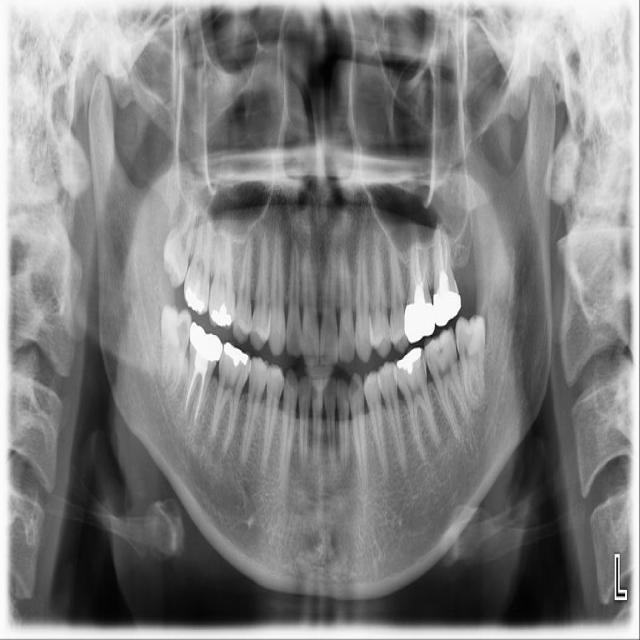3M ESPE Implant: (154, 188, 208, 291)
52: (385, 342, 440, 398), (177, 320, 228, 378), (211, 342, 256, 397), (400, 292, 438, 344), (433, 273, 461, 328), (209, 277, 237, 331), (182, 258, 209, 314)
73: (178, 356, 215, 436), (407, 226, 433, 299), (430, 218, 455, 288), (572, 543, 580, 559)
BioHorizons Implant: (431, 218, 464, 328)
Biomet 3i Implant: (453, 313, 492, 409)
Blue Sky Bio Implant: (421, 326, 472, 443)
Caries: (181, 206, 215, 316)
Implant: (179, 321, 224, 439)
Keystone Dental Implant: (160, 302, 192, 396)
